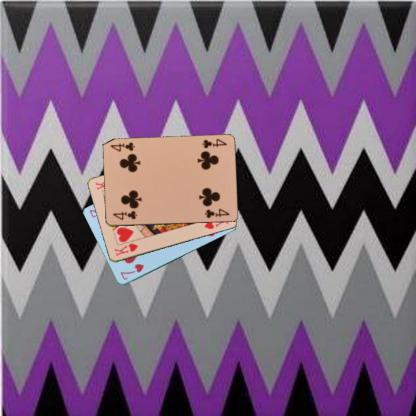4c: (199, 136, 228, 150), (110, 209, 138, 221)
7h: (118, 262, 145, 282)
Kh: (112, 241, 139, 257)
